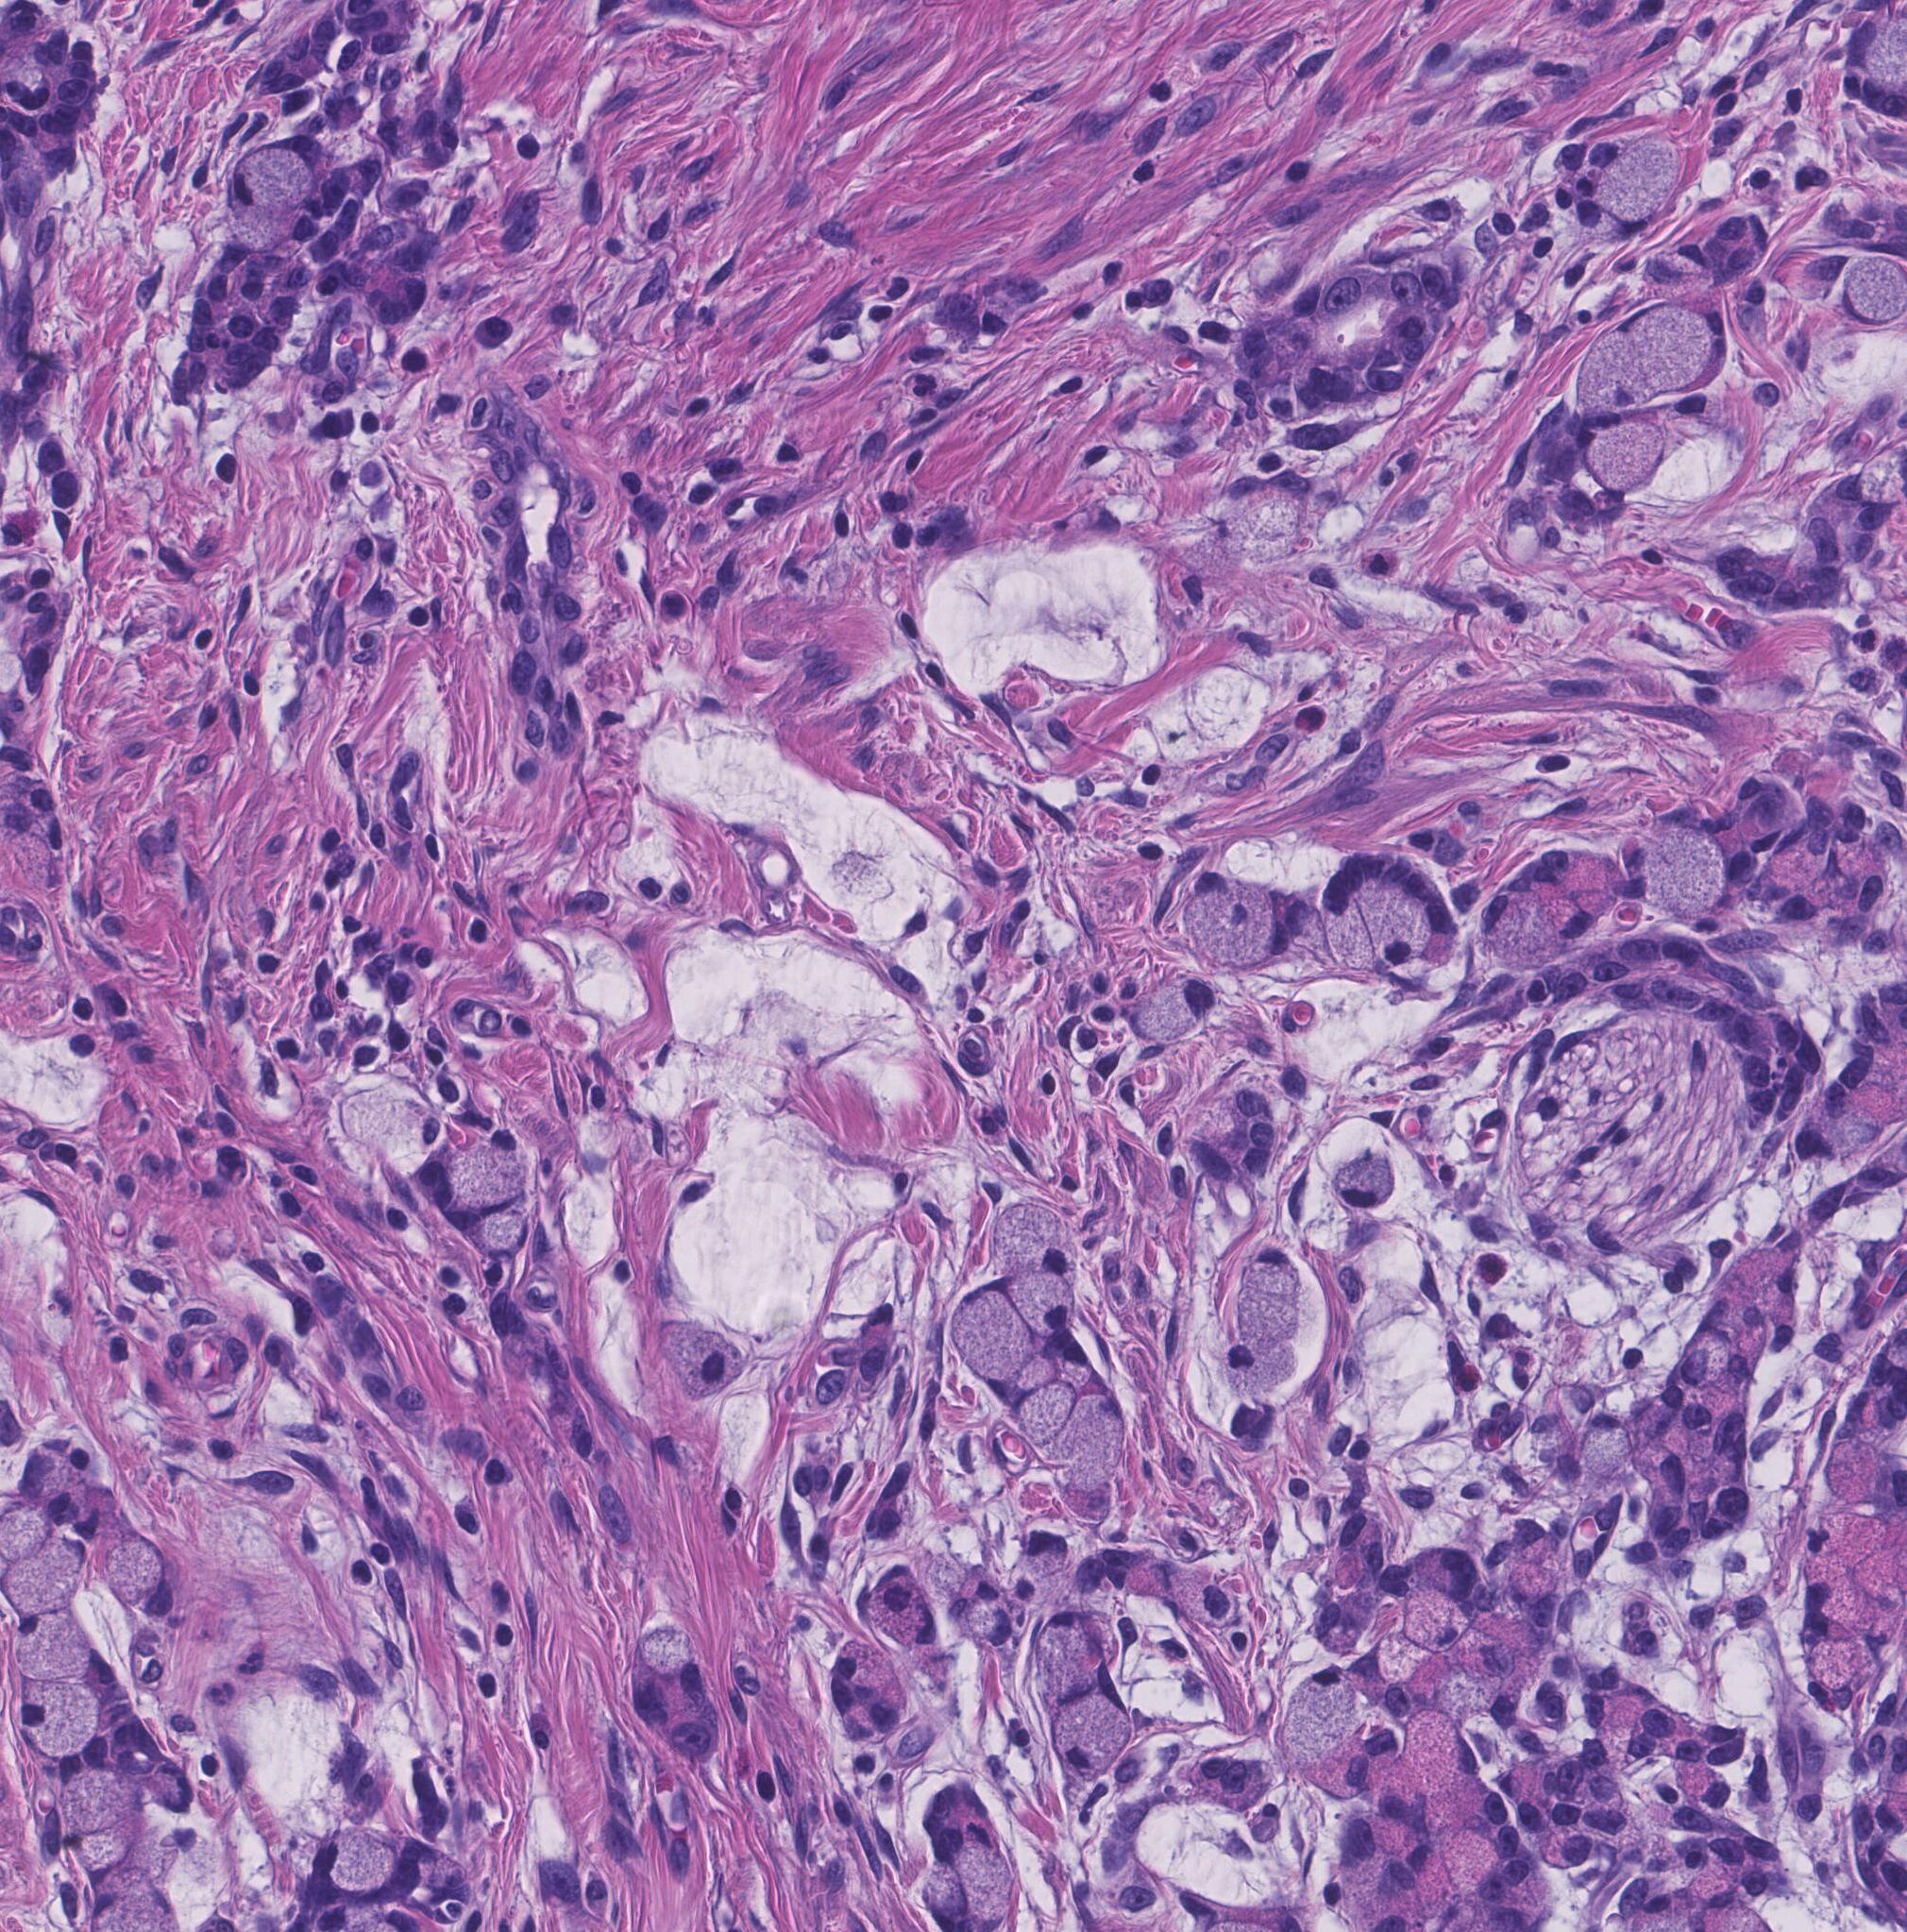ring_cell_cancer: (341, 1073, 440, 1160), (1217, 472, 1313, 557), (1278, 1670, 1359, 1768), (1622, 835, 1717, 914), (1034, 1612, 1116, 1701), (1051, 1401, 1128, 1492), (948, 1291, 1027, 1378), (1184, 880, 1263, 968), (1619, 309, 1708, 386), (1051, 1693, 1132, 1775), (1477, 893, 1561, 971), (5, 1534, 89, 1611), (658, 1322, 739, 1401), (21, 1680, 101, 1757), (990, 1205, 1074, 1277), (1542, 849, 1629, 915), (1792, 1099, 1886, 1160), (1404, 1712, 1483, 1784), (10, 1612, 94, 1677), (1802, 1553, 1870, 1632), (1577, 335, 1647, 409), (1607, 168, 1683, 232), (1589, 445, 1676, 501), (630, 1621, 706, 1686), (461, 1146, 533, 1212), (232, 150, 306, 215), (1364, 891, 1423, 968), (1011, 1378, 1079, 1443), (1303, 1740, 1376, 1799), (1406, 1588, 1469, 1656), (1016, 1279, 1097, 1331), (1133, 983, 1208, 1039), (1233, 1251, 1301, 1310), (110, 1528, 166, 1600), (327, 1829, 398, 1885), (1318, 882, 1367, 963), (1327, 1151, 1395, 1209), (835, 1639, 899, 1694), (1406, 1843, 1453, 1918), (1228, 1336, 1289, 1392), (1582, 1413, 1633, 1476), (65, 1829, 134, 1871), (967, 1593, 1016, 1647), (152, 1763, 199, 1815), (1018, 1530, 1069, 1577), (419, 1846, 470, 1890), (1509, 1562, 1559, 1605), (89, 1866, 152, 1899), (1051, 1347, 1095, 1392), (485, 1214, 533, 1254), (845, 1701, 878, 1742)
